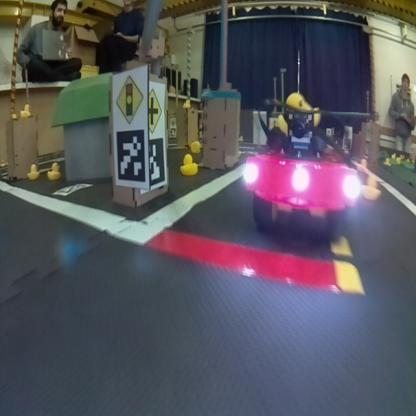duckie: (174, 144, 199, 184), (42, 154, 66, 181), (16, 93, 35, 118), (23, 154, 38, 181)
duckiebot: (238, 79, 367, 269)
